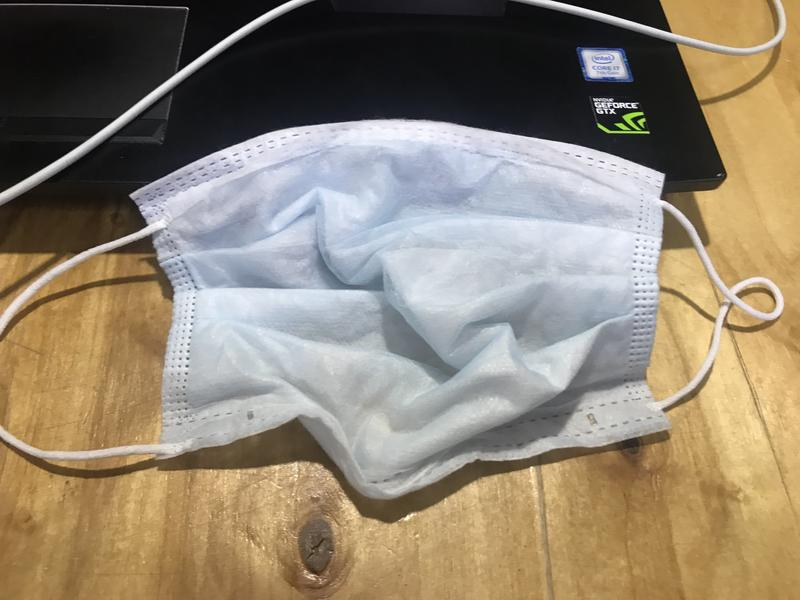medical_mask: (1, 118, 785, 499)
